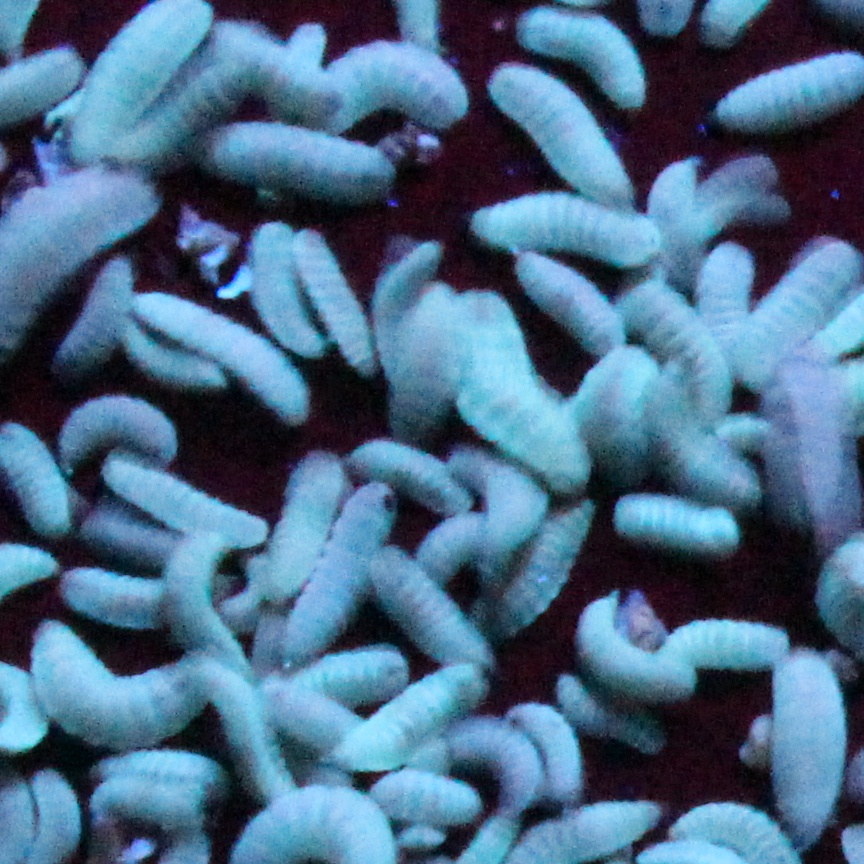larve: (424, 284, 593, 476), (20, 610, 222, 755), (471, 49, 638, 210), (129, 281, 311, 425), (339, 646, 511, 777), (93, 431, 270, 556), (191, 112, 404, 208), (364, 529, 495, 681), (733, 235, 862, 383), (456, 187, 665, 261), (768, 646, 847, 839), (570, 581, 700, 698), (258, 443, 351, 598), (283, 223, 381, 368), (47, 379, 185, 481), (245, 210, 331, 366), (503, 248, 620, 360), (49, 256, 137, 383), (656, 598, 789, 681), (611, 482, 750, 558), (345, 428, 469, 511), (508, 693, 587, 808), (437, 715, 550, 794)
